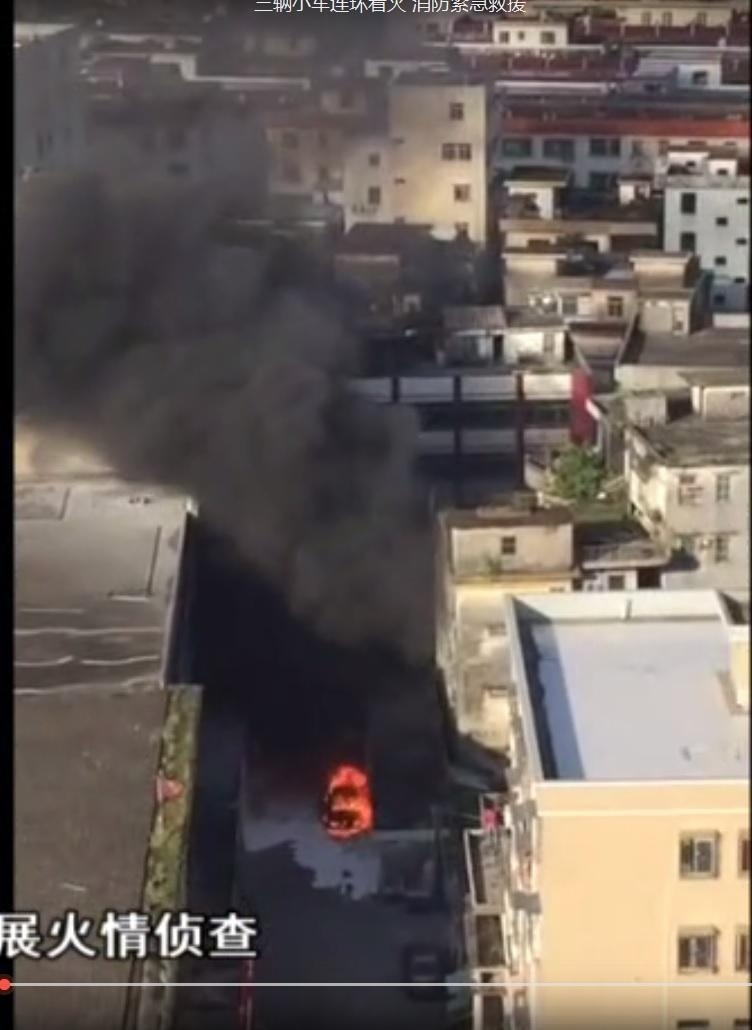fire: (322, 762, 374, 837)
